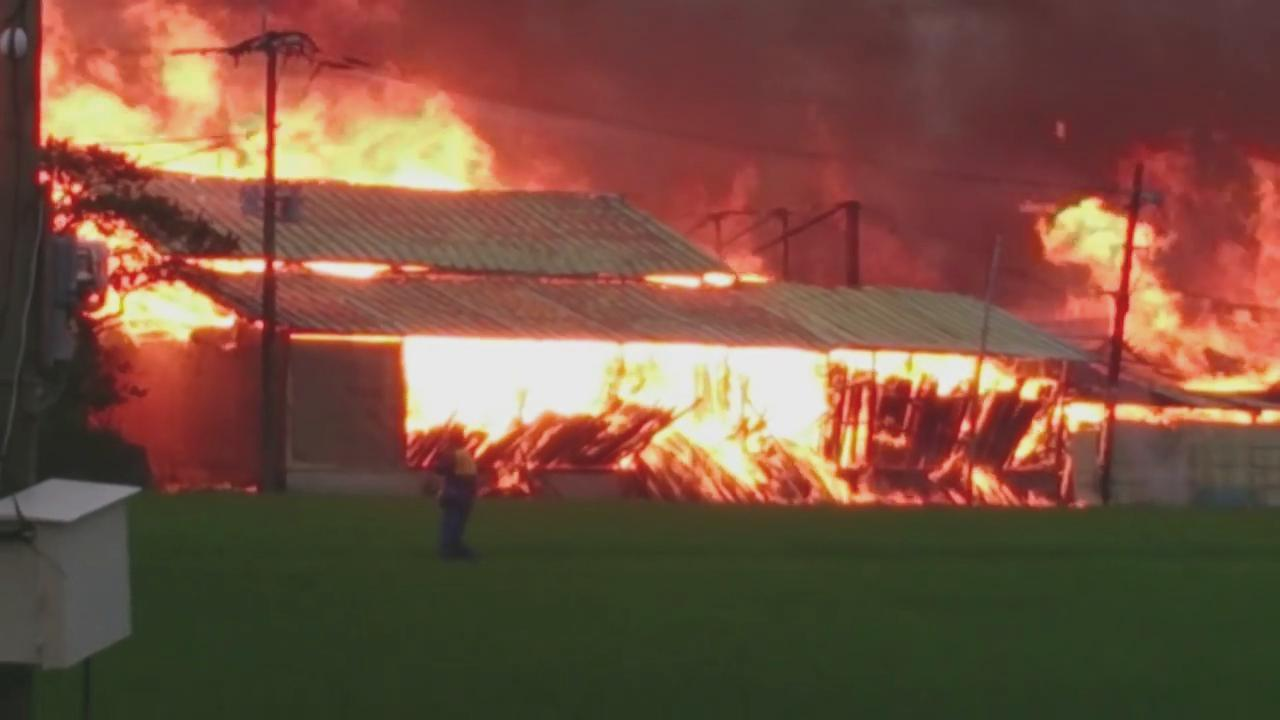Fire: (45, 6, 505, 193), (398, 333, 830, 484), (1030, 205, 1277, 400), (75, 227, 266, 343), (1012, 409, 1279, 465), (836, 347, 1061, 403), (647, 269, 769, 295), (307, 255, 431, 280), (970, 466, 1002, 493)
